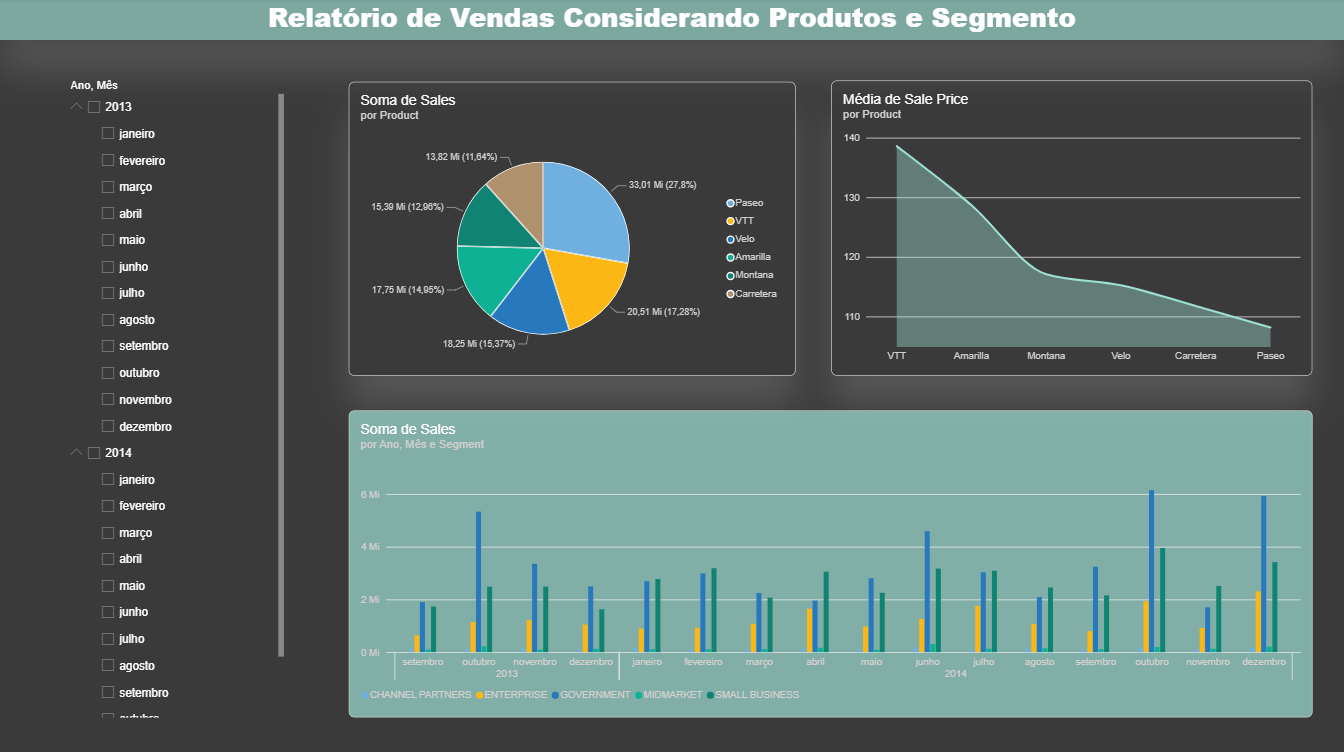

The page's visual inventory and layout, read from the dashboard file:
{"tool":"powerbi","page":{"name":"Página 1","canvas":[1920,1080],"ordinal":0},"visuals":[{"type":"pieChart","fields":{"Category":["financials.Product"],"Y":["Sum(financials.Sales)"]},"box":[498.1,119.4,638.1,419.9],"z":0},{"type":"areaChart","fields":{"Category":["financials.Product"],"Y":["Avg(financials.Sale Price)"]},"box":[1187.7,117.3,687.5,422],"z":1000},{"type":"clusteredColumnChart","fields":{"Category":["financials.Date.Variation.Hierarquia de datas.Ano","financials.Date.Variation.Hierarquia de datas.Mês"],"Series":["financials.Segment"],"Y":["Sum(financials.Sales)"]},"box":[498.1,588.7,1377,438.4],"z":2000},{"type":"slicer","fields":{"Values":["financials.Date.Variation.Hierarquia de datas.Ano","financials.Date.Variation.Hierarquia de datas.Mês"]},"box":[92.6,115.3,312.9,911.8],"z":3000},{"type":"textbox","box":[0,0,1920,60],"z":4000}]}

Visuals, with their boxes on the page's 1920x1080 design canvas (x1, y1, x2, y2). These are canvas units, not pixel positions in the 1344x752 screenshot, which may show the page scaled, cropped or inside an application window:
pieChart - financials.Product x Sum(financials.Sales): (498, 119, 1136, 539)
areaChart - financials.Product x Avg(financials.Sale Price): (1188, 117, 1875, 539)
clusteredColumnChart - financials.Date.Variation.Hierarquia de datas.Ano x financials.Date.Variation.Hierarquia de datas.Mês: (498, 589, 1875, 1027)
slicer - financials.Date.Variation.Hierarquia de datas.Ano x financials.Date.Variation.Hierarquia de datas.Mês: (93, 115, 406, 1027)
textbox: (0, 0, 1920, 60)
